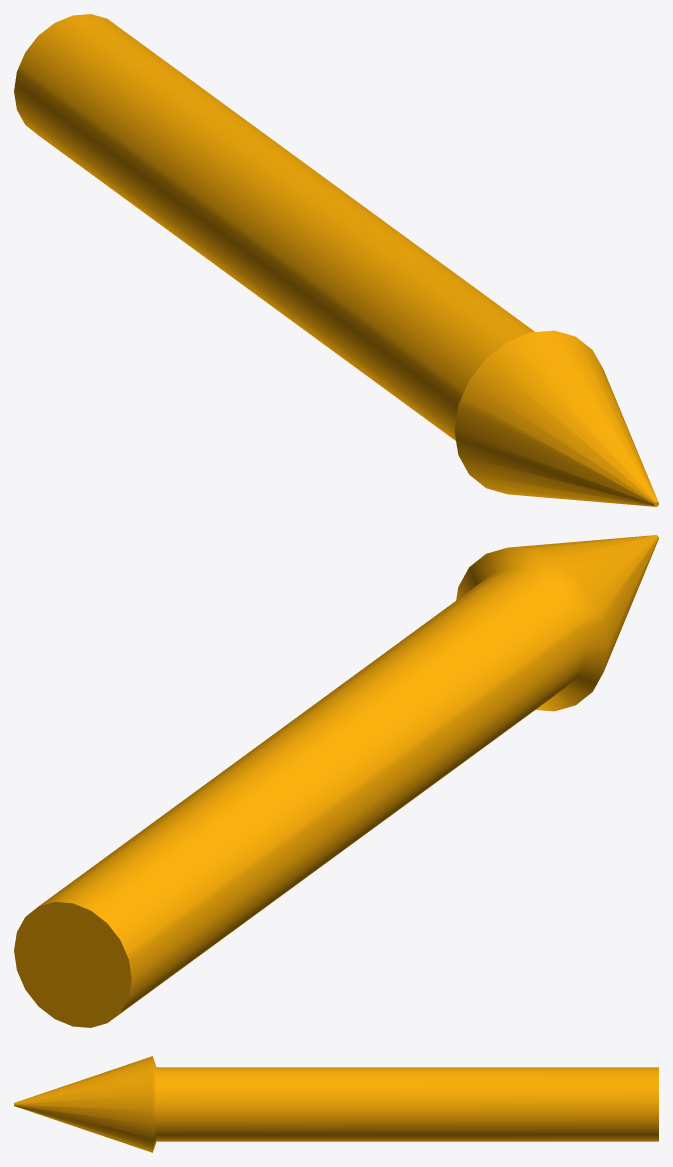
Rendered from Arrow.fbx.
The picture shows the model from 3 angles, top to bottom: view 1: azimuth 30°, elevation 25°; view 2: azimuth 150°, elevation 25°; view 3: azimuth 270°, elevation 25°; orthographic projection. The views are drawn at different scales.
Visible parts, largest first — view 1: pCylinder1; view 2: pCylinder1; view 3: pCylinder1.
Boxes of the visible parts, x1=… form: pCylinder1: x1=14, y1=14, x2=658, y2=506; pCylinder1: x1=14, y1=535, x2=658, y2=1027; pCylinder1: x1=14, y1=1056, x2=658, y2=1152.
Bounding box in the file's own units: 0.1277 × 0.1277 × 0.8437.
